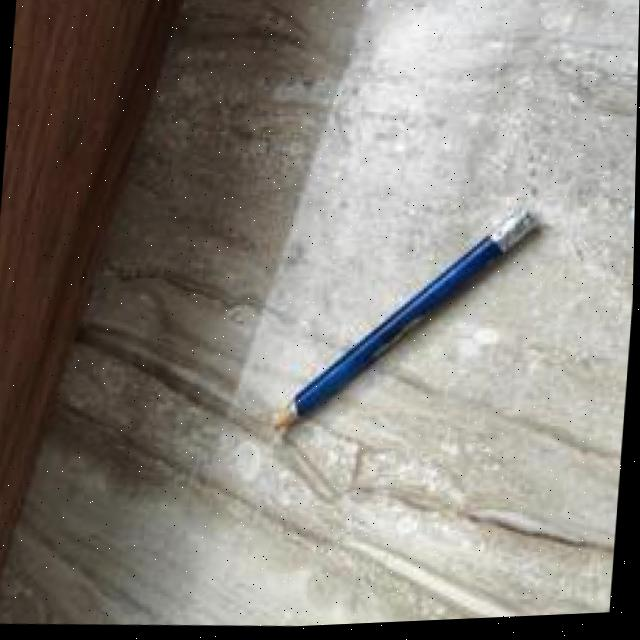pencil: (235, 196, 567, 470)
